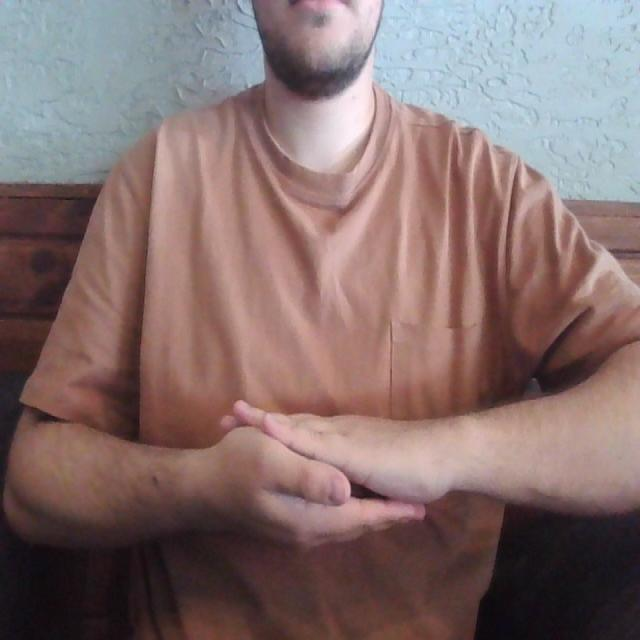Arkadas: (94, 384, 550, 554)
